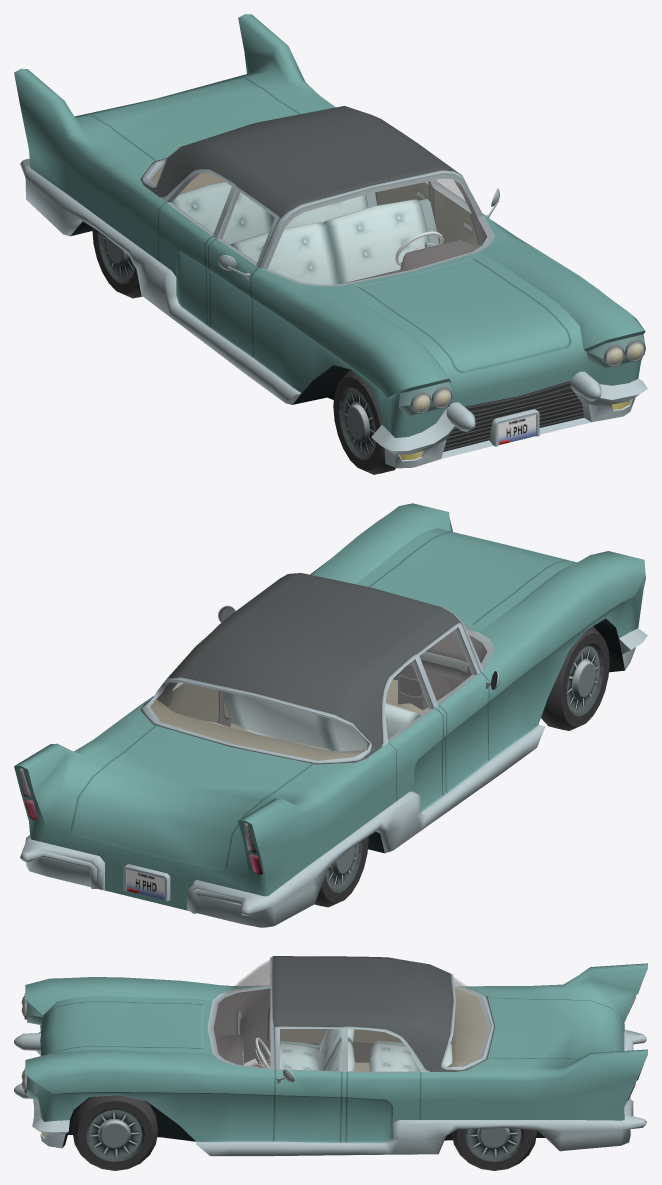
File: carModel.fbx
3 views of the same model, one above another, from view 1: azimuth 30°, elevation 25°; view 2: azimuth 150°, elevation 25°; view 3: azimuth 270°, elevation 25° (orthographic). The views are drawn at different scales.
Visible parts, largest first — view 1: carGy; view 2: carGy; view 3: carGy.
Part boxes in pixels (left/top/right/bottom): carGy: left=14, top=14, right=647, bottom=474; carGy: left=14, top=503, right=647, bottom=927; carGy: left=14, top=956, right=647, bottom=1170.
Size of the model in its own units: 350 by 224 by 873.
3 materials, 2 textured.
